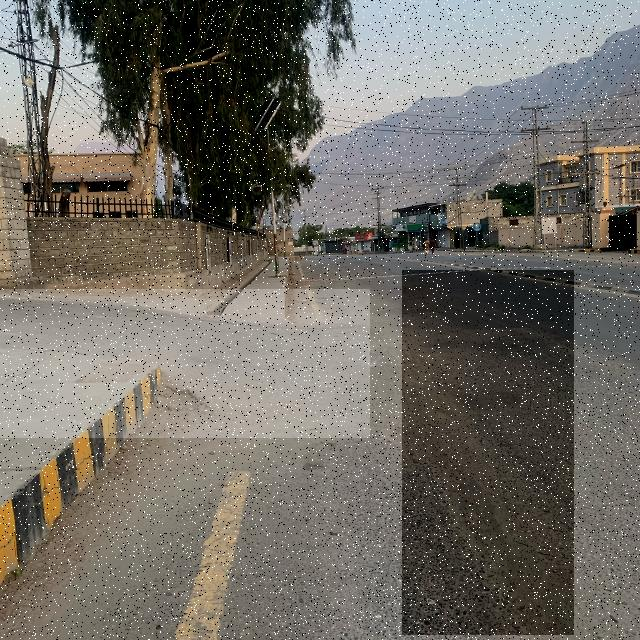left: (0, 289, 370, 438)
straight: (402, 270, 574, 635)
